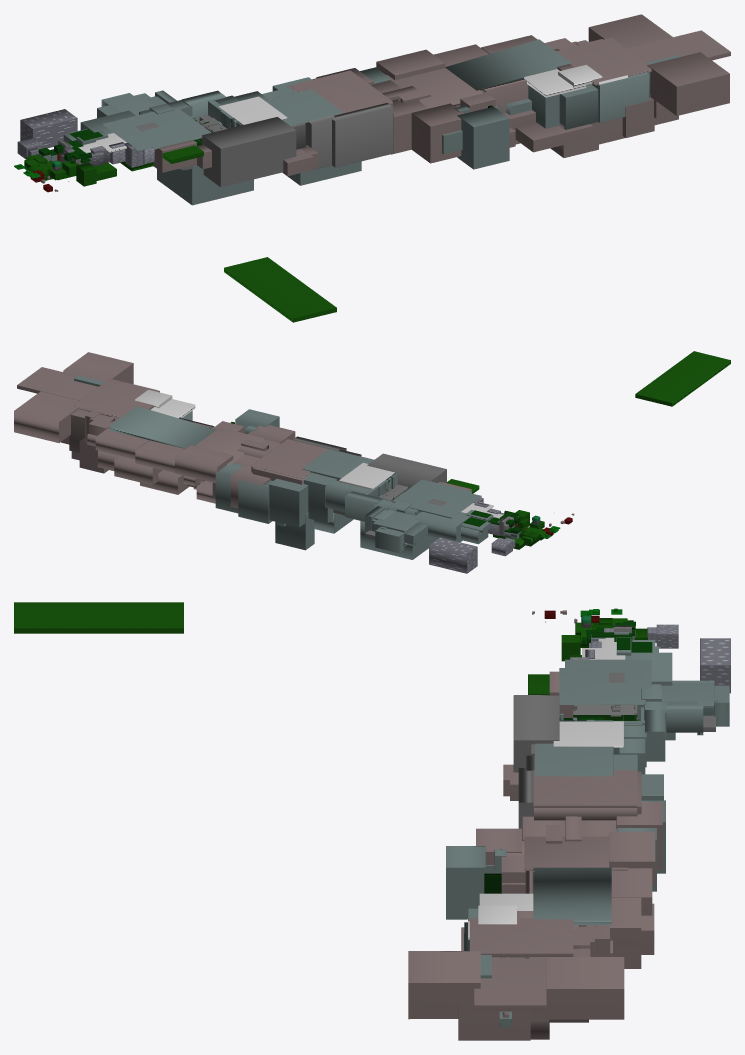
Rendered from Level5NoCollidersCombinedFinal.fbx.
The picture shows the model from 3 angles, top to bottom: view 1: azimuth 30°, elevation 25°; view 2: azimuth 150°, elevation 25°; view 3: azimuth 270°, elevation 25°; orthographic projection. The views are drawn at different scales.
Visible parts, largest first — view 1: Block27042; view 2: Block27042; view 3: Block27042.
Part boxes in pixels (x1,y1,x2,y2): Block27042: (14,14,730,322); Block27042: (14,351,730,573); Block27042: (14,602,730,1040).
Size of the model in its own units: 648 by 89.9 by 499.
